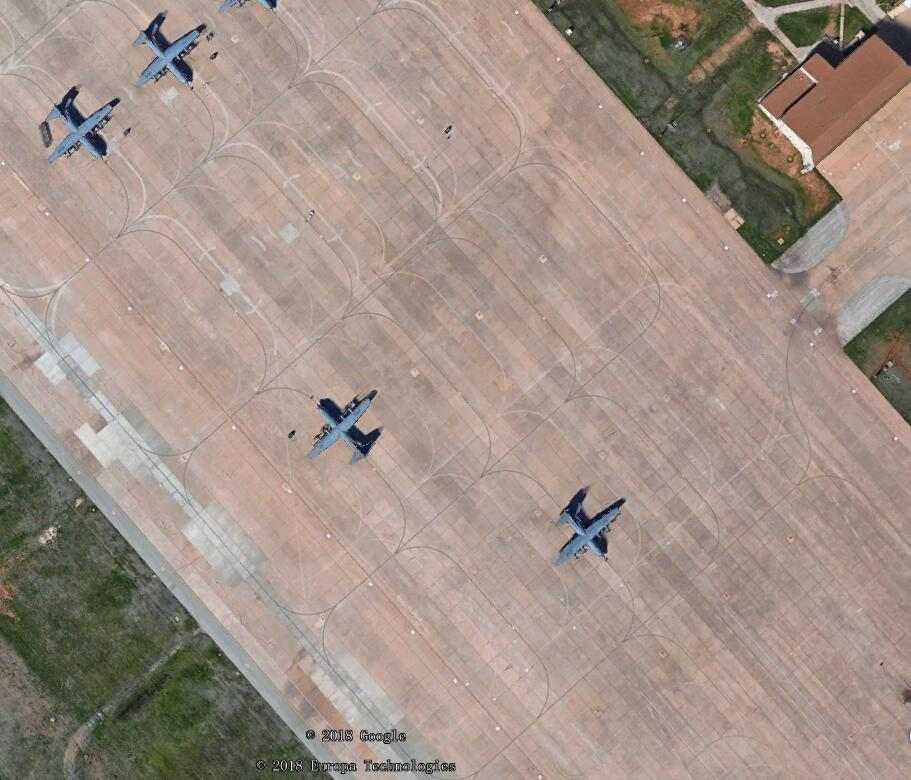A2: (549, 484, 632, 570), (303, 384, 385, 467), (126, 12, 210, 91), (37, 84, 121, 160)
